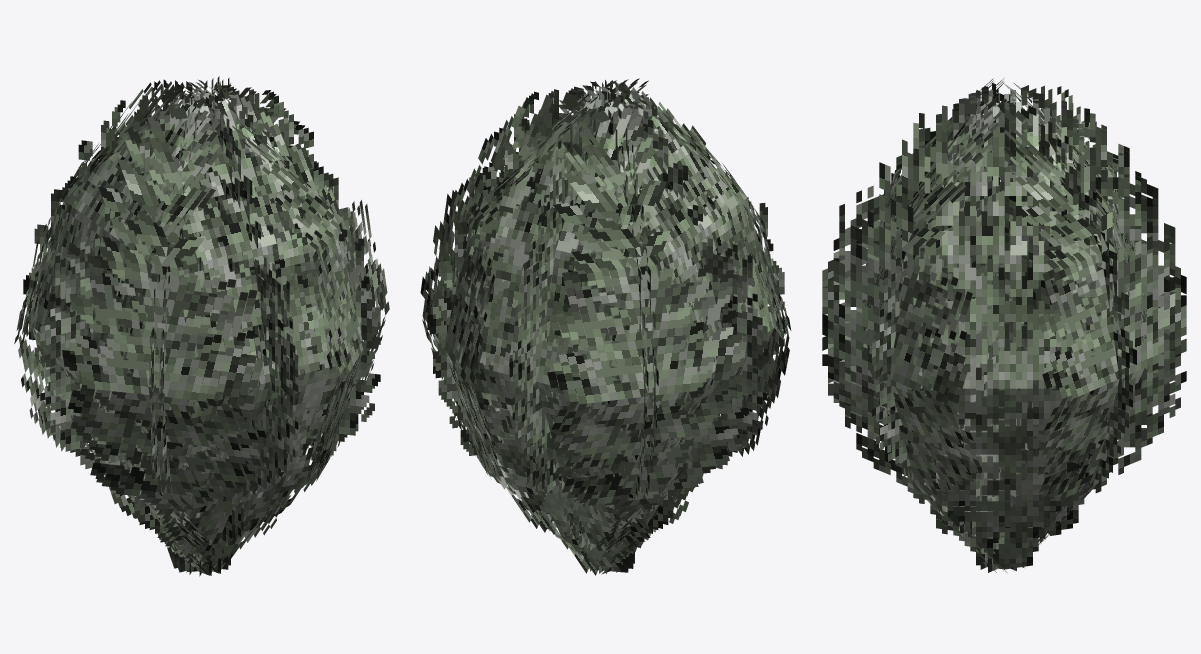
The model's file is bush07_winter.glb.
3 renders of one model, left to right at view 1: azimuth 30°, elevation 25°; view 2: azimuth 150°, elevation 25°; view 3: azimuth 270°, elevation 25°, orthographic.
Visible parts, largest first — view 1: bush07; view 2: bush07; view 3: bush07.
Part boxes in pixels (x1,y1,x2,y2): bush07: (14,76,389,576); bush07: (420,78,791,575); bush07: (822,78,1186,572).
Size of the model in its own units: 1.05 by 1.5 by 1.05.
1 material, 1 textured.
